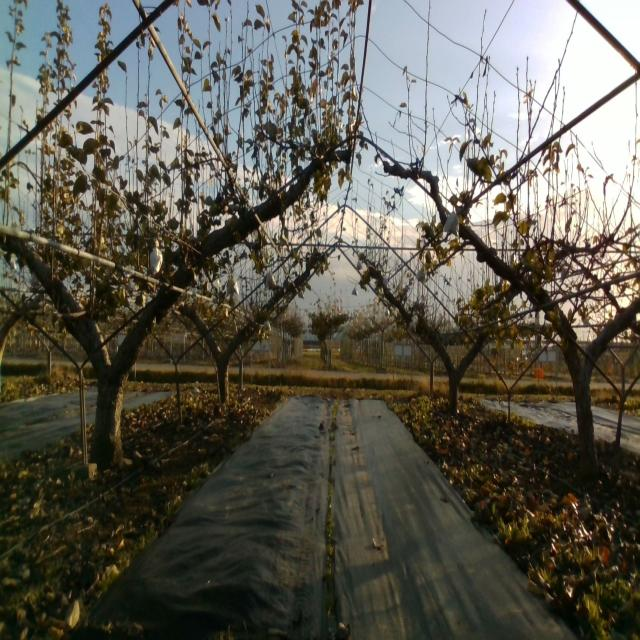pearbags: (442, 208, 461, 236), (150, 240, 163, 275), (227, 272, 240, 296), (265, 269, 277, 291)
